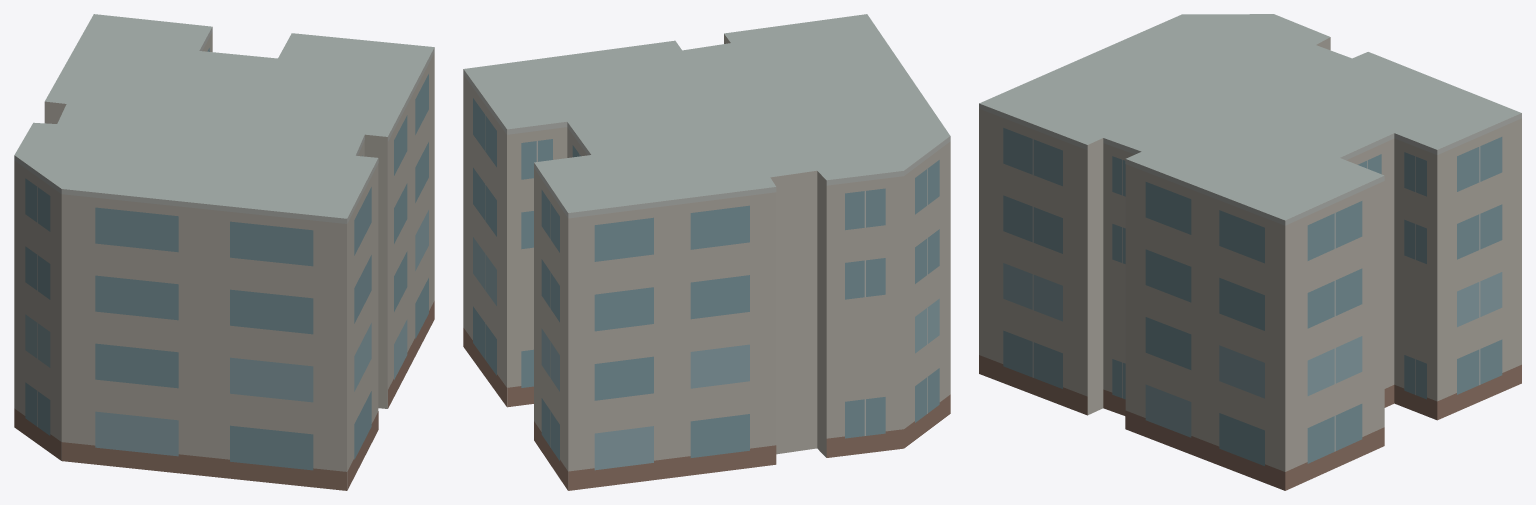
File: survey-upis-32725962.glb
3 views of the same model, side by side, from view 1: azimuth 30°, elevation 25°; view 2: azimuth 150°, elevation 25°; view 3: azimuth 270°, elevation 25° (orthographic). The views are drawn at different scales.
Visible parts, largest first — view 1: survey-upis-32725962.tmp; view 2: survey-upis-32725962.tmp; view 3: survey-upis-32725962.tmp.
Part boxes in pixels (left/top/right/bottom): survey-upis-32725962.tmp: left=14, top=14, right=434, bottom=490; survey-upis-32725962.tmp: left=463, top=14, right=950, bottom=490; survey-upis-32725962.tmp: left=979, top=14, right=1521, bottom=490.
Bounding box in the file's own units: 20.65 × 12.6 × 22.93.
